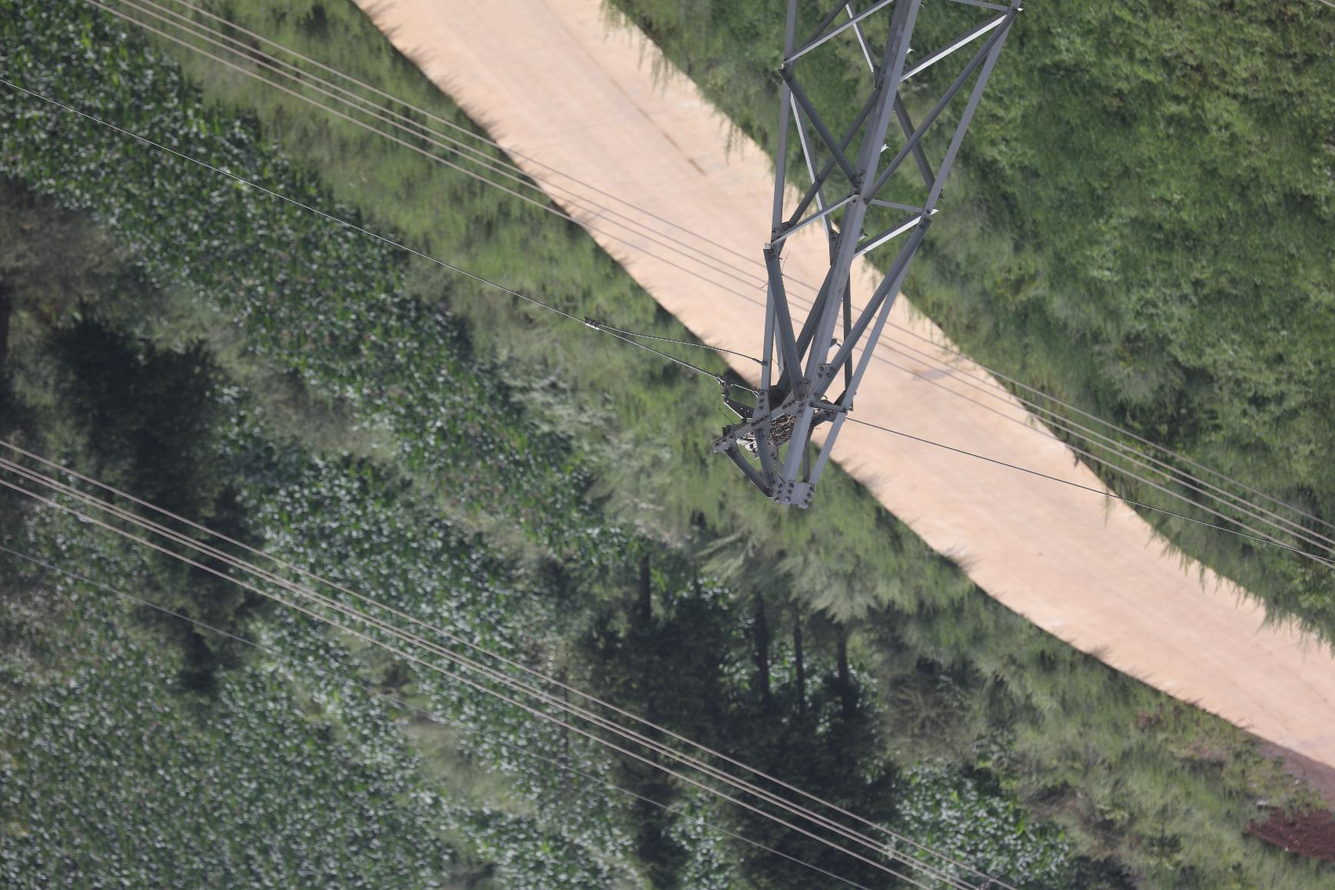nest: (766, 411, 797, 450)
